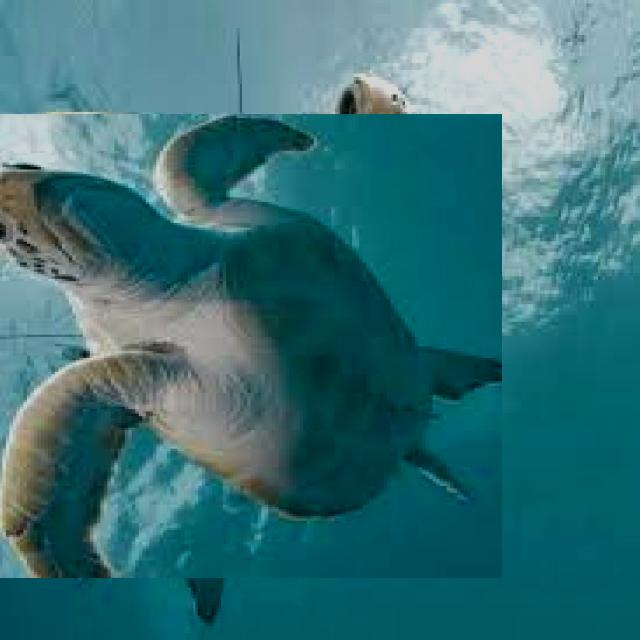Sea turtle: (0, 94, 483, 596)
